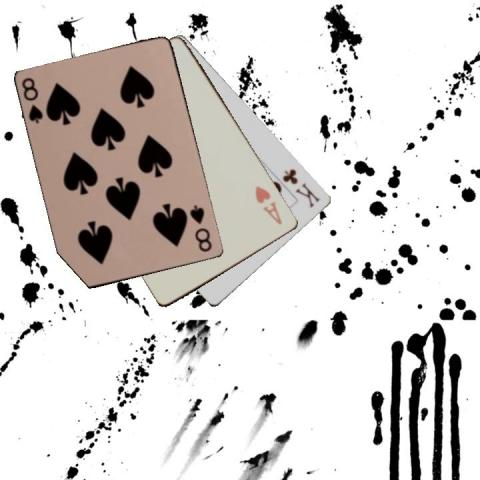8s: (187, 202, 214, 254), (18, 75, 44, 125)
Ah: (252, 182, 284, 226)
Kc: (279, 166, 322, 210)
